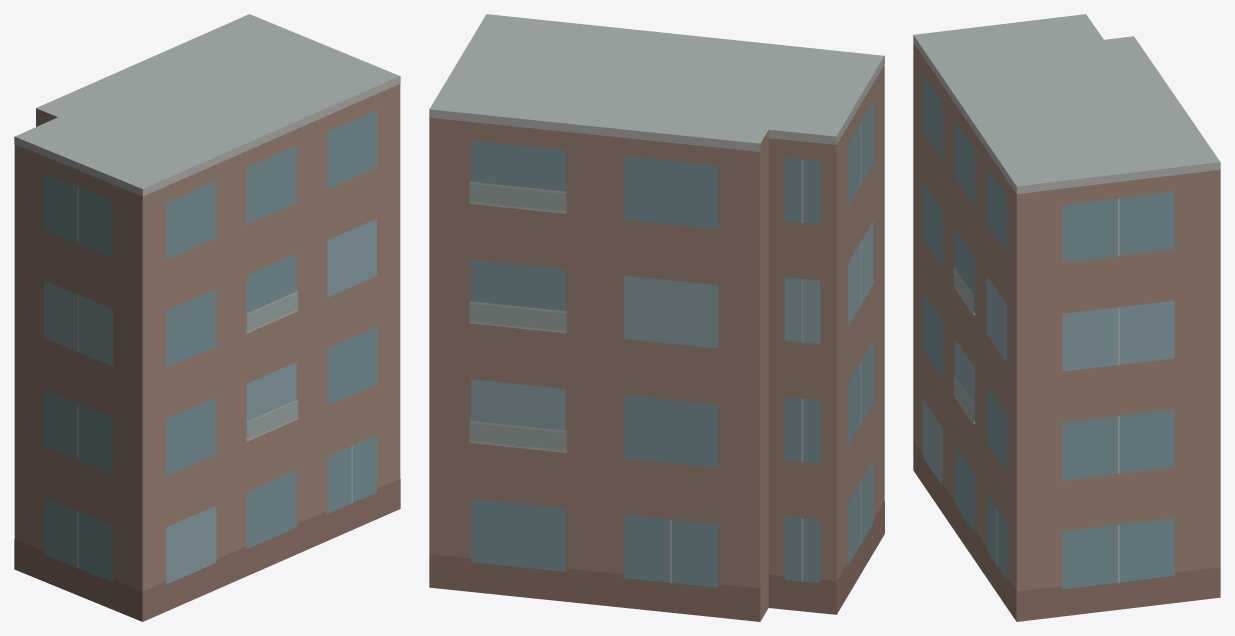
Rendered from survey-upis-32996151.glb.
3 renders of one model, left to right at view 1: azimuth 30°, elevation 25°; view 2: azimuth 150°, elevation 25°; view 3: azimuth 270°, elevation 25°, orthographic. The views are drawn at different scales.
Visible parts, largest first — view 1: survey-upis-32996151.tmp; view 2: survey-upis-32996151.tmp; view 3: survey-upis-32996151.tmp.
Part boxes in pixels (x1,y1,x2,y2): survey-upis-32996151.tmp: [14, 14, 400, 621]; survey-upis-32996151.tmp: [429, 14, 884, 621]; survey-upis-32996151.tmp: [913, 14, 1220, 621].
Size of the model in its own units: 11.9 by 14 by 8.96.
